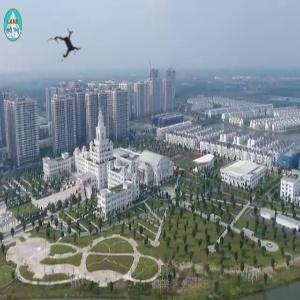drone: (37, 16, 98, 77)
